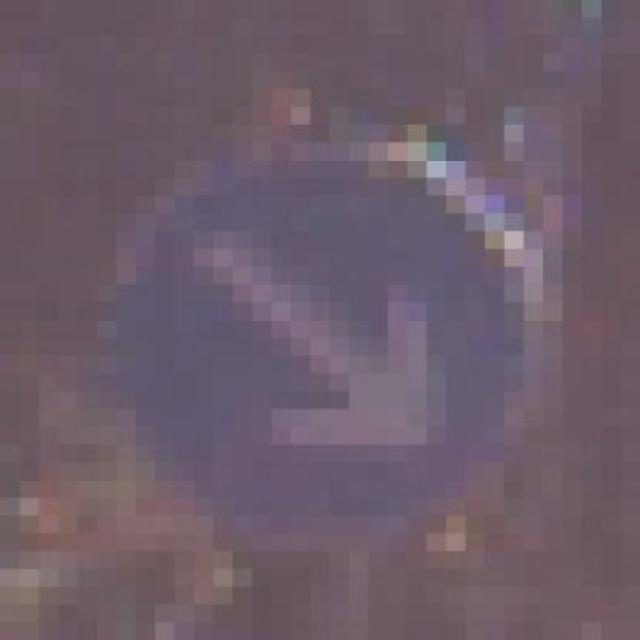Keep-Right: (58, 89, 562, 552)
